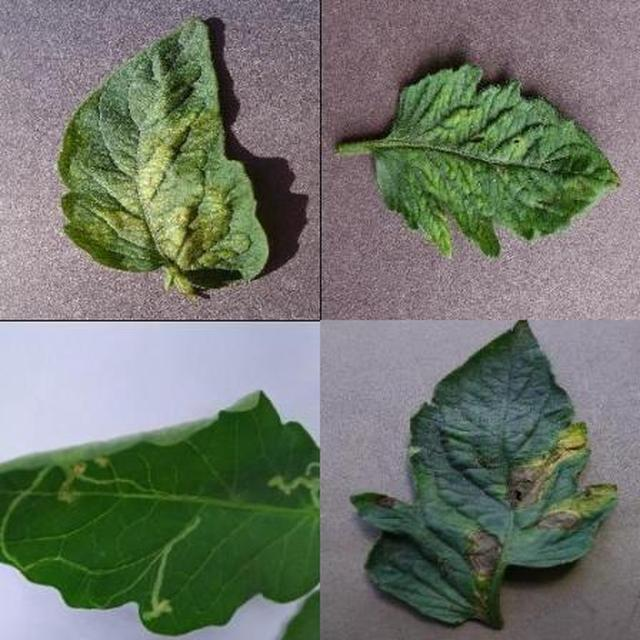Spider Mites Leaf: (229, 218, 640, 640)
